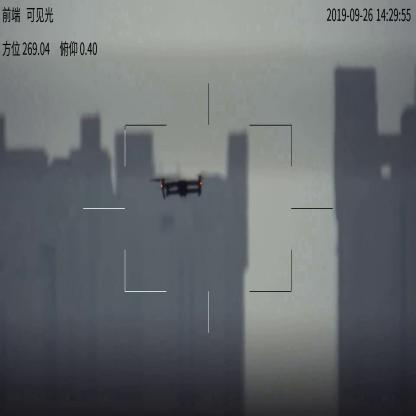uav: (151, 172, 209, 198)
